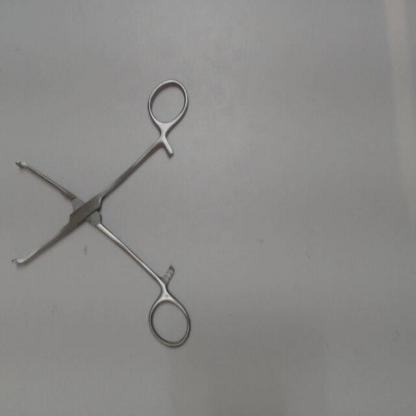Allis Tissue Forceps: (8, 71, 197, 356)
